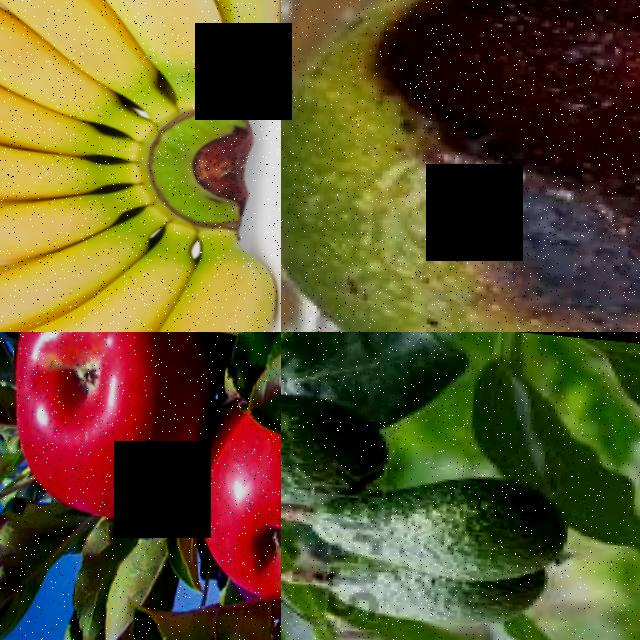apple: (2, 332, 221, 545), (184, 360, 281, 602)
avocado: (281, 0, 640, 332), (304, 447, 584, 577), (309, 548, 551, 634), (281, 371, 400, 506)
banana: (0, 0, 281, 332)
